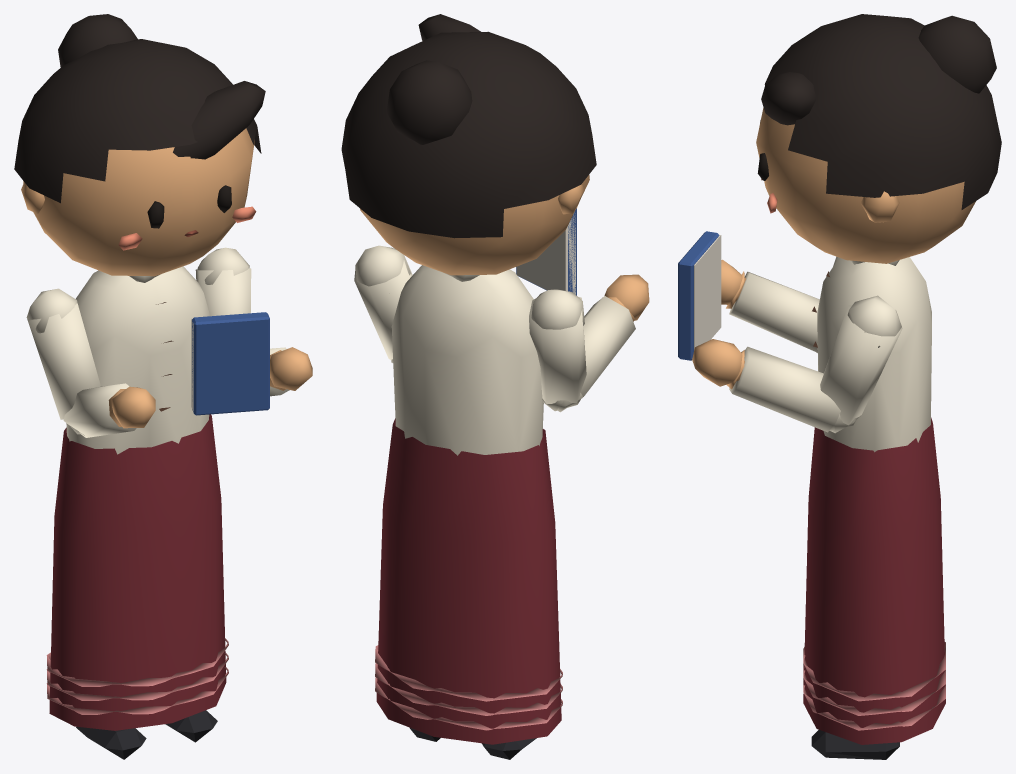
Rendered from era2_teacher_book.glb.
The picture shows the model from 3 angles, left to right: view 1: azimuth 30°, elevation 25°; view 2: azimuth 150°, elevation 25°; view 3: azimuth 270°, elevation 25°; orthographic projection. The views are drawn at different scales.
Parts seen in each view (by area): view 1: body, head, prop_book, arm_R, forearm_R, arm_L, forearm_L, shin_R, shin_L; view 2: body, head, arm_R, forearm_R, arm_L, prop_book, shin_R; view 3: body, head, forearm_L, arm_L, forearm_R, prop_book, shin_L.
Boxes of the visible parts, x1,y1,x2,y2 form: body: [46, 266, 228, 730]; head: [14, 14, 265, 276]; prop_book: [191, 312, 269, 415]; arm_R: [26, 288, 100, 435]; forearm_R: [63, 383, 155, 437]; arm_L: [195, 247, 251, 316]; forearm_L: [270, 347, 312, 396]; shin_R: [76, 726, 146, 759]; shin_L: [165, 710, 217, 742]; body: [375, 265, 562, 744]; head: [341, 14, 596, 275]; arm_R: [529, 289, 586, 412]; forearm_R: [542, 274, 649, 411]; arm_L: [354, 245, 412, 362]; prop_book: [516, 208, 576, 295]; shin_R: [482, 738, 536, 759]; body: [803, 257, 945, 744]; head: [756, 14, 1001, 263]; forearm_L: [692, 339, 855, 432]; arm_L: [820, 295, 902, 433]; forearm_R: [721, 259, 819, 352]; prop_book: [678, 231, 721, 360]; shin_L: [811, 730, 899, 759].
Size of the model in its own units: 0.4966 by 1.48 by 0.6016.
